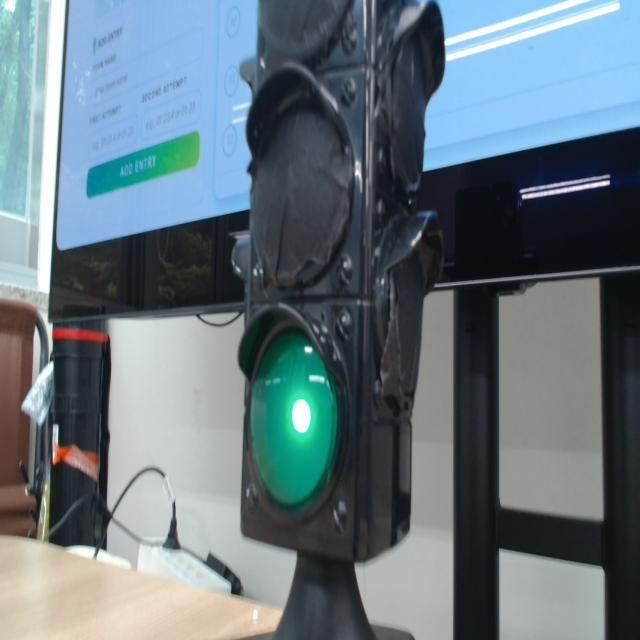green_light: (250, 330, 337, 507), (292, 399, 311, 433)
